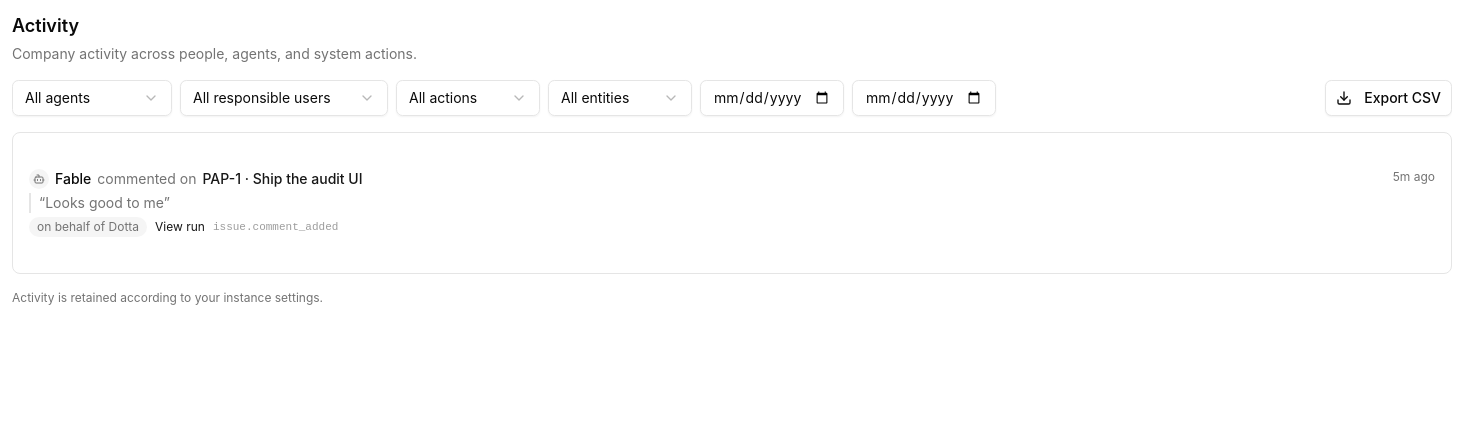
Test case: AuditFeed › only offers action domains present in the agent-action feed
The width and height of the screenshot is (1464, 428).
Click the dropdown labelled "All actions" at coordinates (468, 98), box [396,80,540,116]
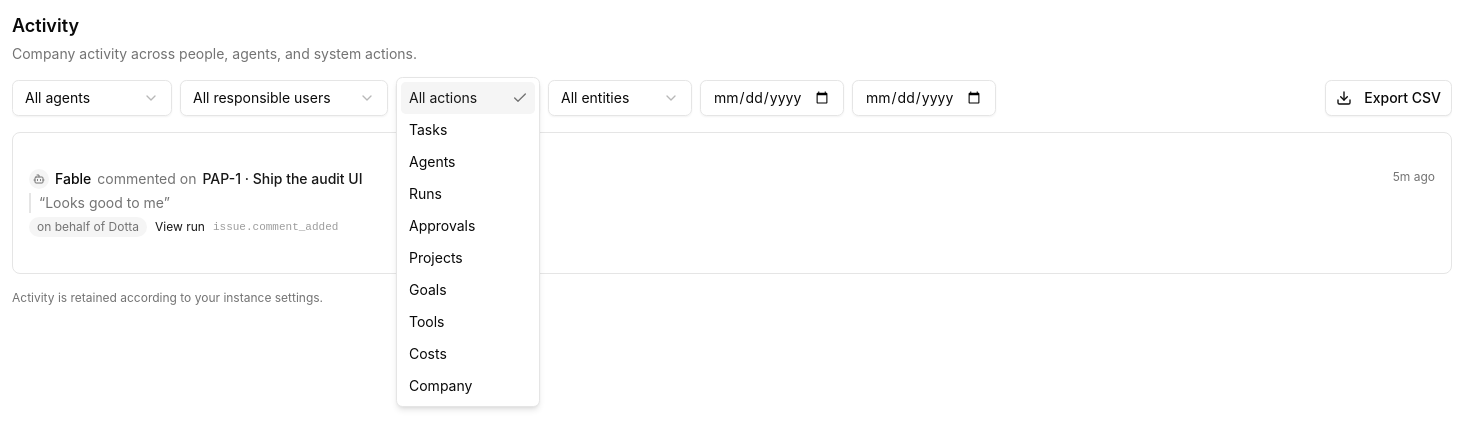
Expected: the text "Tasks" is shown, [409,120,447,140]
